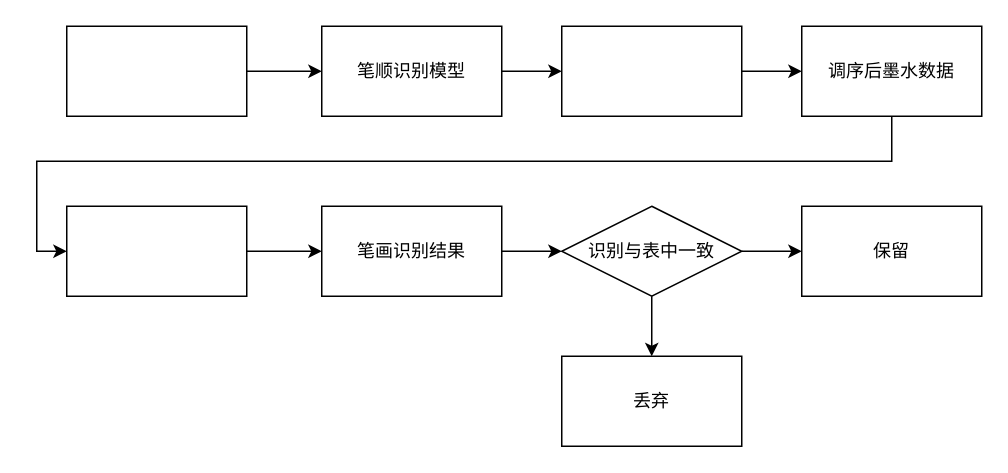
Image size: 1008x473. Some labels were removed from this diagram. Here are the shapes that lost their labels. From the top down, the box of each, then its label:
(65, 25, 247, 116): 数字墨水数据
(560, 25, 742, 116): 笔顺识别结果
(65, 205, 247, 296): 笔画识别模型
